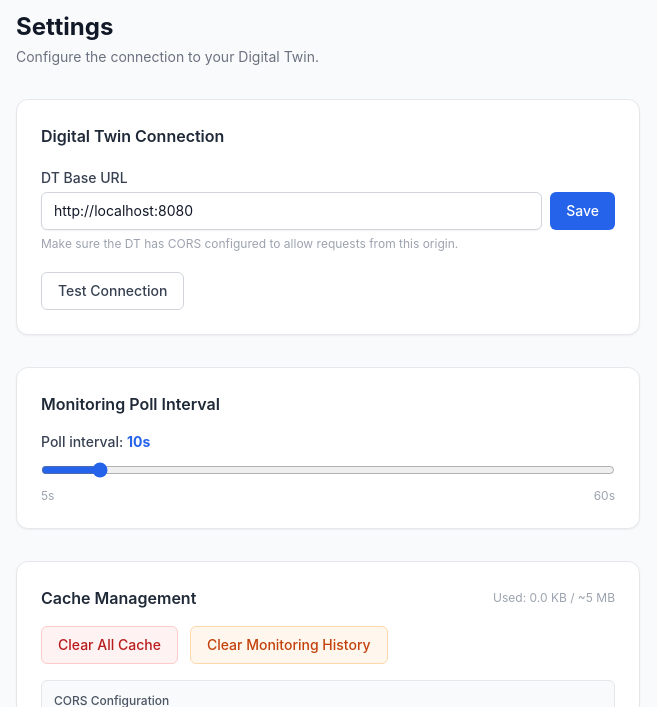
Test case: SettingsPage › shows error message on failed connection test
This screenshot has width=657, height=707.
Step 1. Click the button "Test Connection" → (113, 291), box top-left (41, 272), bottom-right (184, 310)
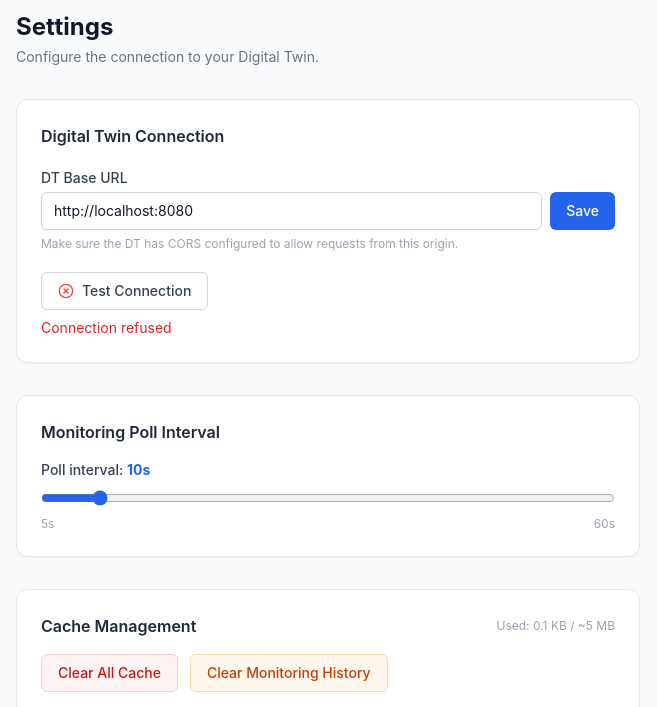
Check: the text "Connection refused" is shown, box top-left (41, 319), bottom-right (172, 336)
